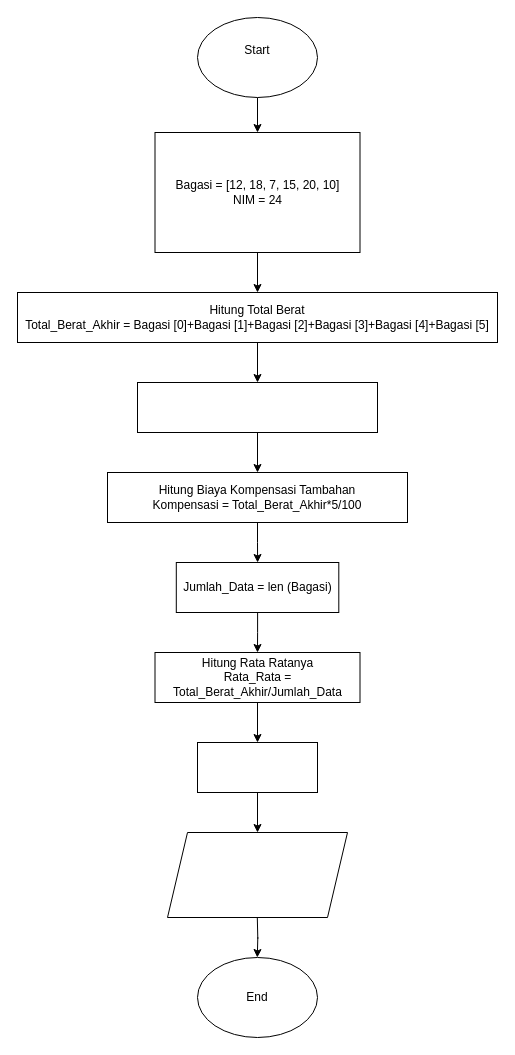
This 515x1055 diagram has some shape labels left out. Each missing label, with the centre of its shape:
"Bolean = NIM < Rata_Rata" goes at (257,767).
"Mengubah Kilogram ke Gram Total_Berat_Fix = Total_Berat_Akhir*1000" goes at (257,407).
"Tampilkan (Total_Berat_Fix, Kompensasi, Jumlah_Data, Rata_Rata, Bolean)" goes at (257,875).
